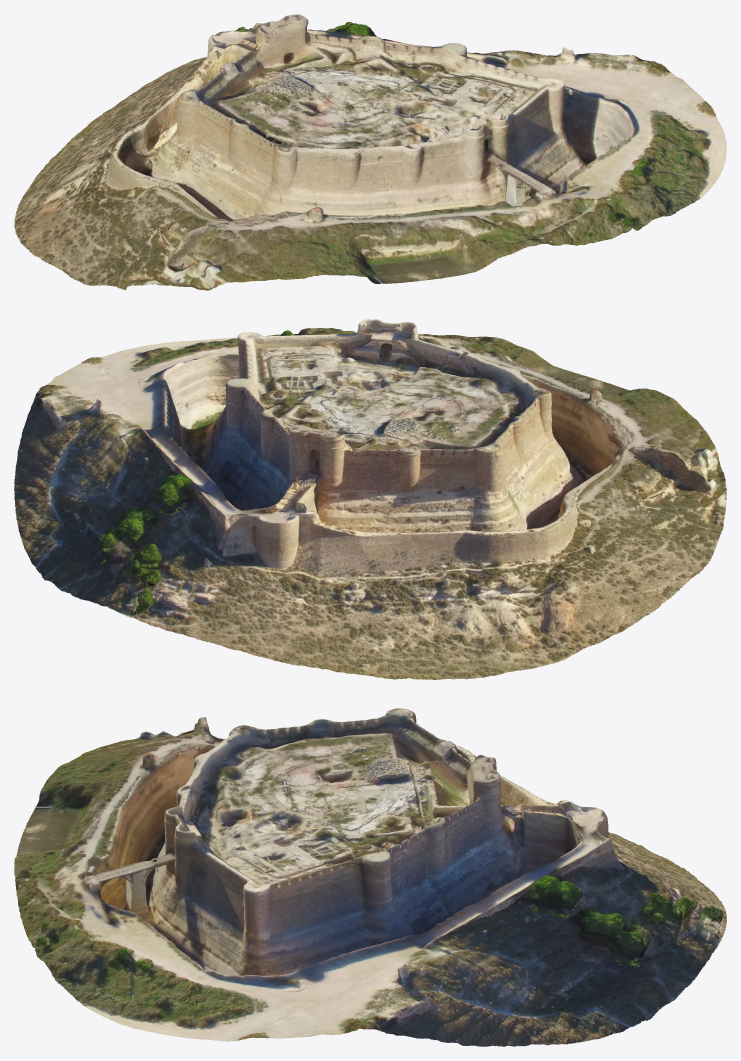
The model's file is castle_of_chinchilla_spain.glb.
The picture shows the model from 3 angles, top to bottom: view 1: azimuth 30°, elevation 25°; view 2: azimuth 150°, elevation 25°; view 3: azimuth 270°, elevation 25°; orthographic projection. The views are drawn at different scales.
Visible parts, largest first — view 1: Castle of Chinchilla; view 2: Castle of Chinchilla; view 3: Castle of Chinchilla.
Part boxes in pixels (x1,y1,x2,y2): Castle of Chinchilla: (14, 14, 726, 290); Castle of Chinchilla: (14, 319, 726, 679); Castle of Chinchilla: (14, 708, 726, 1046).
Bounding box in the file's own units: 2378 × 567 × 2147.
1 material, 1 textured.
